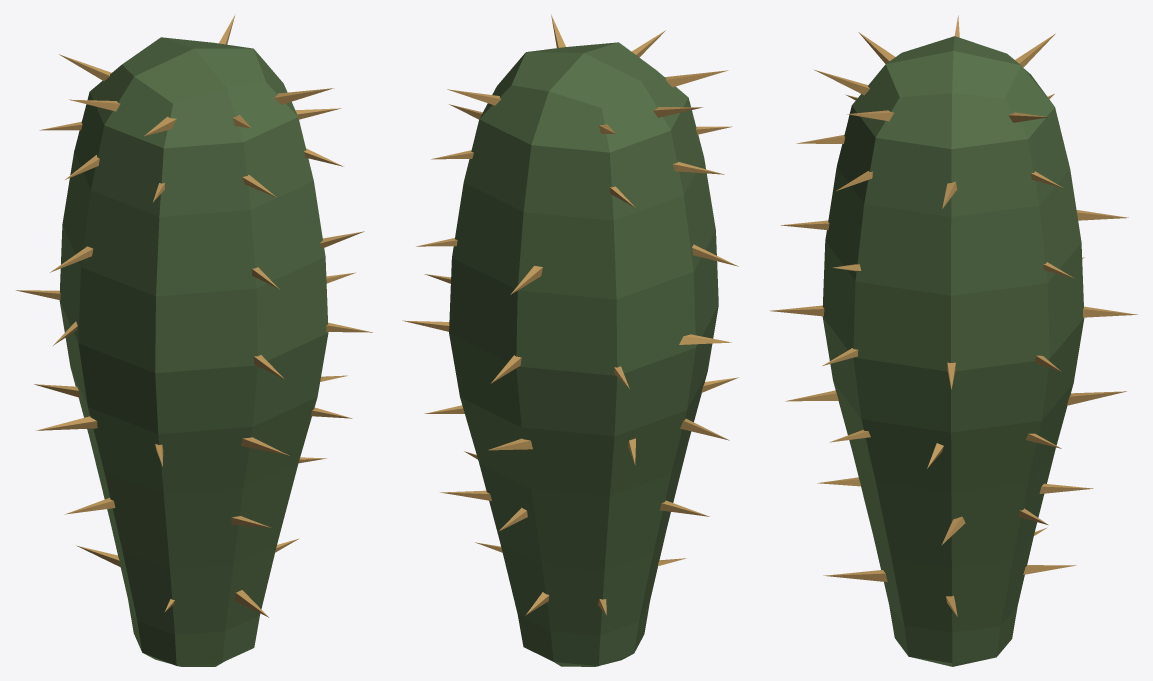
File: cactus_1.glb
3 views of the same model, side by side, from view 1: azimuth 30°, elevation 25°; view 2: azimuth 150°, elevation 25°; view 3: azimuth 270°, elevation 25° (orthographic).
Visible parts, largest first — view 1: Cactus_1; view 2: Cactus_1; view 3: Cactus_1.
Boxes of the visible parts, x1=… form: Cactus_1: x1=16, y1=14, x2=372, y2=666; Cactus_1: x1=402, y1=14, x2=738, y2=666; Cactus_1: x1=769, y1=15, x2=1137, y2=666.
Size of the model in its own units: 0.5497 by 1.01 by 0.5629.
